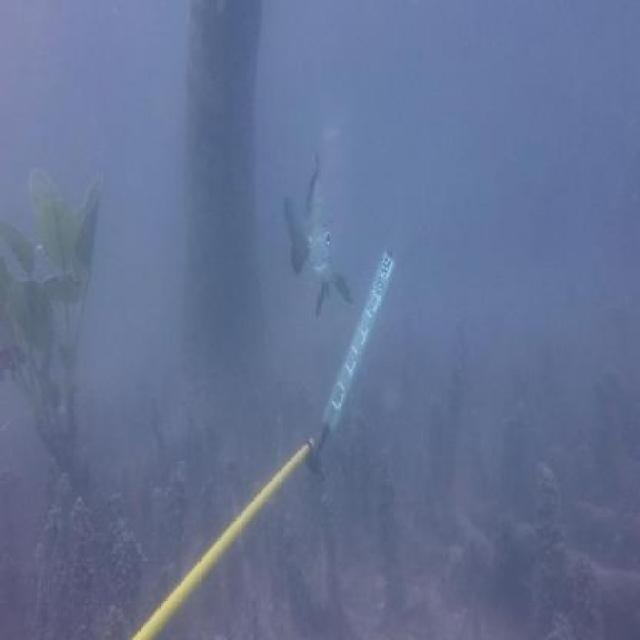acanthopagrus_palmaris: (279, 168, 356, 308)
